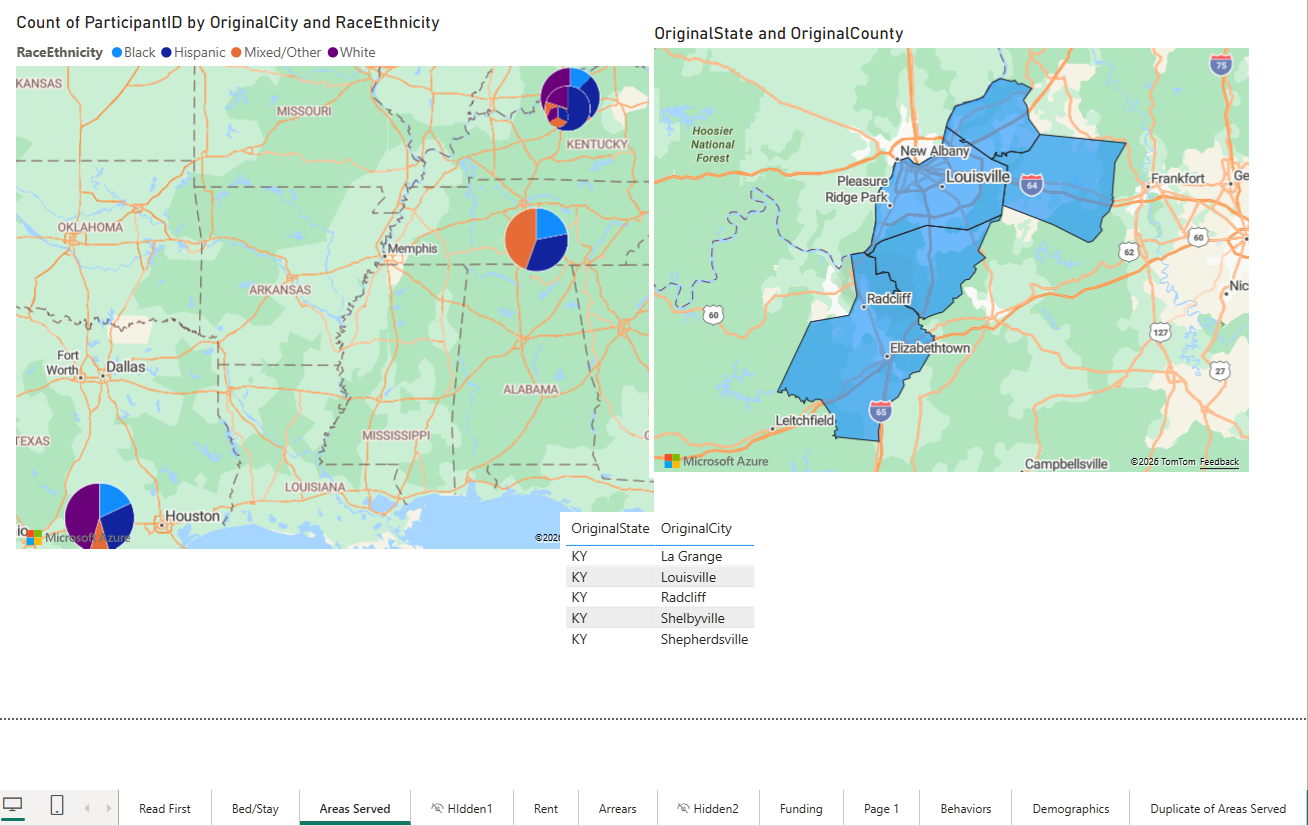

This screenshot's page, from the dashboard's own definition file:
{"tool":"powerbi","page":{"name":"Duplicate of Areas Served","canvas":[1280,720],"ordinal":9},"visuals":[{"type":"azureMap","fields":{"Category":["DimParticipant.OriginalState","DimParticipant.OriginalCity"],"Size":["CountNonNull(DimParticipant.ParticipantID)"],"Series":["DimParticipant.RaceEthnicity"]},"box":[19.3,33.4,543.6,317.4],"z":0},{"type":"azureMap","fields":{"Category":["DimParticipant.OriginalState","DimParticipant.OriginalCounty"]},"box":[640,43.7,588.6,268.6],"z":1000},{"type":"azureMap","fields":{"Category":["DimParticipant.OriginalState","DimParticipant.OriginalCity"]},"box":[19.3,0,1037.1,677.3],"z":2000}]}

Visuals, with their boxes on the page's 1280x720 design canvas (x1, y1, x2, y2). These are canvas units, not pixel positions in the 1308x826 screenshot, which may show the page scaled, cropped or inside an application window:
azureMap - DimParticipant.OriginalState x DimParticipant.OriginalCity: x1=19, y1=33, x2=563, y2=351
azureMap - DimParticipant.OriginalState x DimParticipant.OriginalCounty: x1=640, y1=44, x2=1229, y2=312
azureMap - DimParticipant.OriginalState x DimParticipant.OriginalCity: x1=19, y1=0, x2=1056, y2=677
